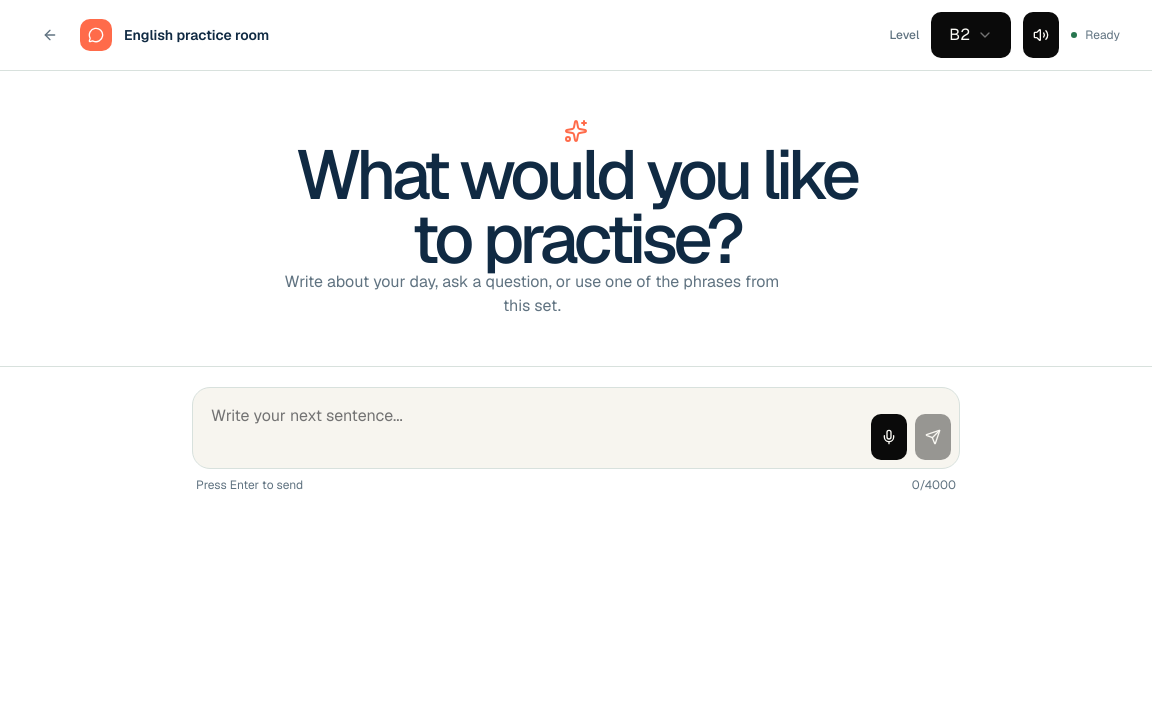
StudyChatView layout and rendering › renders the audio toggle button and allows toggling speech output
Click the button named "mute tutor voice". click: (1041, 35)
box: [1023,12,1059,58]
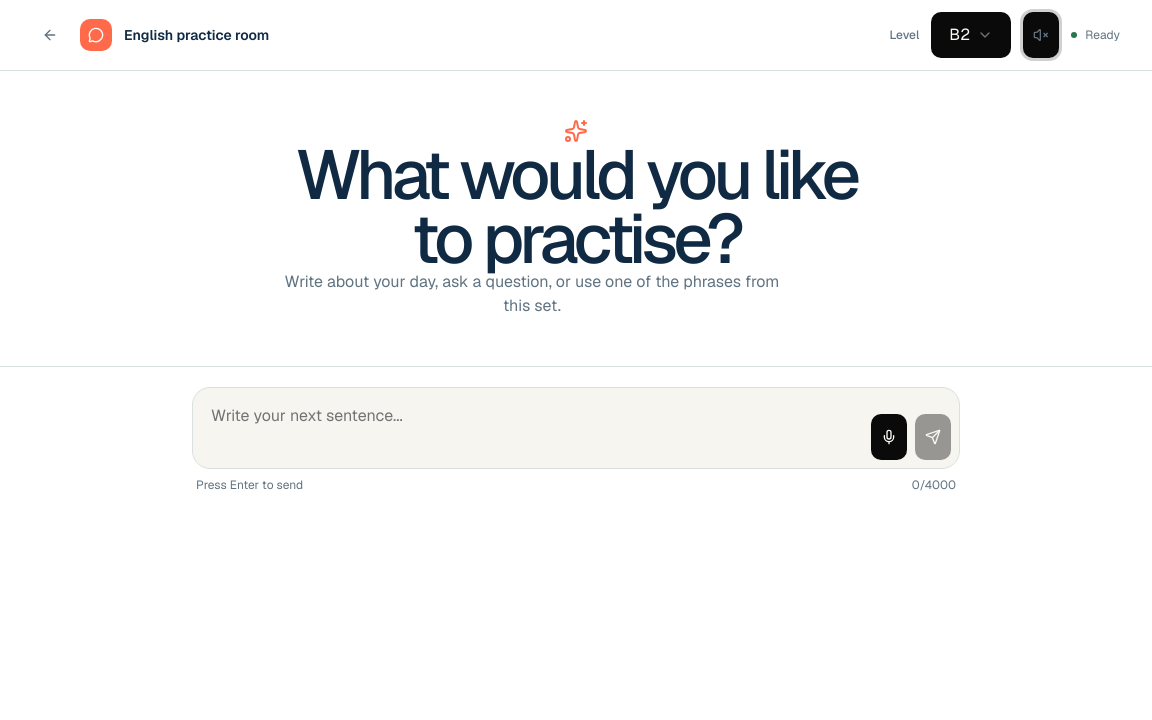
Expected: the button named "enable tutor voice" is shown, [1023,12,1059,58]
